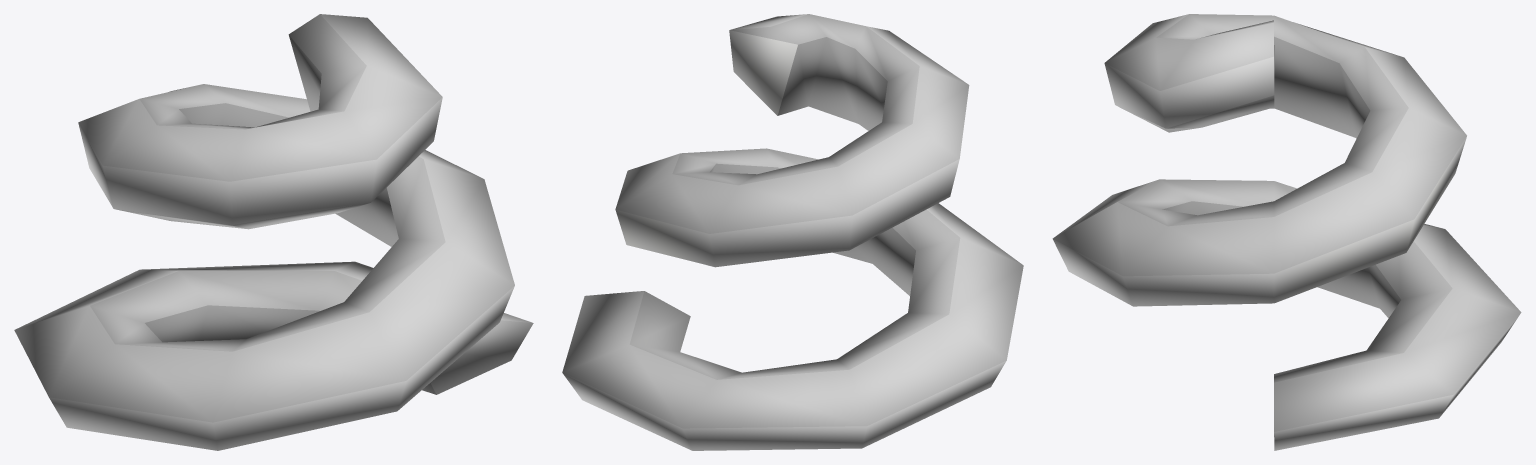
Rendered from jumpbottom.FBX.
3 views of the same model, side by side, from view 1: azimuth 30°, elevation 25°; view 2: azimuth 150°, elevation 25°; view 3: azimuth 270°, elevation 25° (orthographic). The views are drawn at different scales.
Parts seen in each view (by area): view 1: jumpbottom; view 2: jumpbottom; view 3: jumpbottom.
Boxes of the visible parts, box(x1,y1,x2,y2) form: jumpbottom: box(14, 14, 533, 450); jumpbottom: box(562, 14, 1023, 450); jumpbottom: box(1052, 14, 1521, 450).
Size of the model in its own units: 2.07 by 1.67 by 1.97.
Materials: 1 (1 with a texture image).
